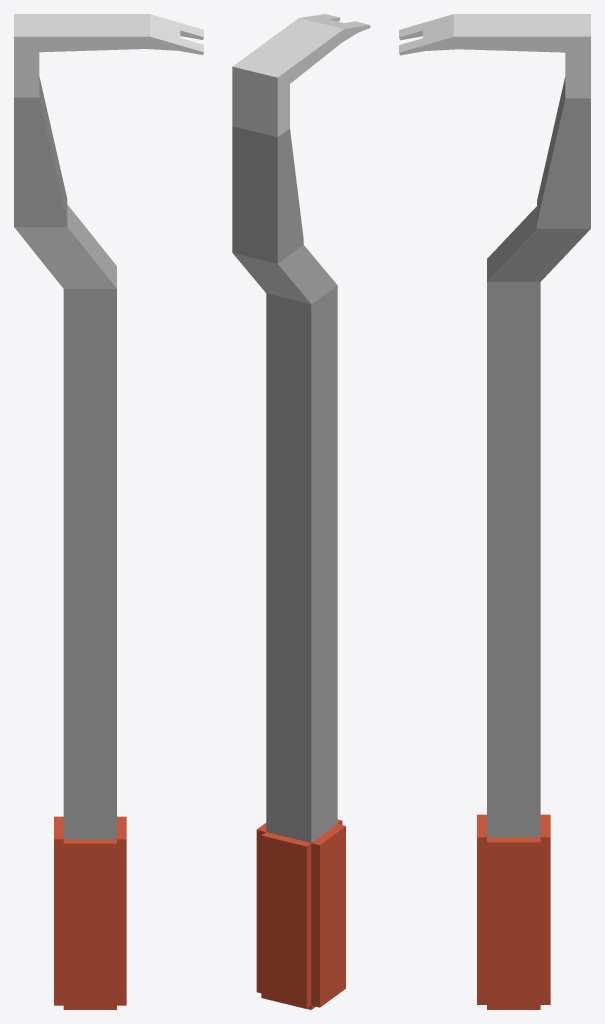
File: PiedDeBiche.fbx
3 views of the same model, side by side, from view 1: azimuth 90°, elevation 25°; view 2: azimuth 150°, elevation 25°; view 3: azimuth 270°, elevation 25° (orthographic). The views are drawn at different scales.
Parts seen in each view (by area): view 1: Pied; view 2: Pied; view 3: Pied.
Part boxes in pixels (x1,y1,x2,y2): Pied: [14, 14, 203, 1009]; Pied: [232, 14, 370, 1009]; Pied: [399, 14, 590, 1009].
Bounding box in the file's own units: 6.67 × 95.14 × 16.91.
1 material, 1 textured.
